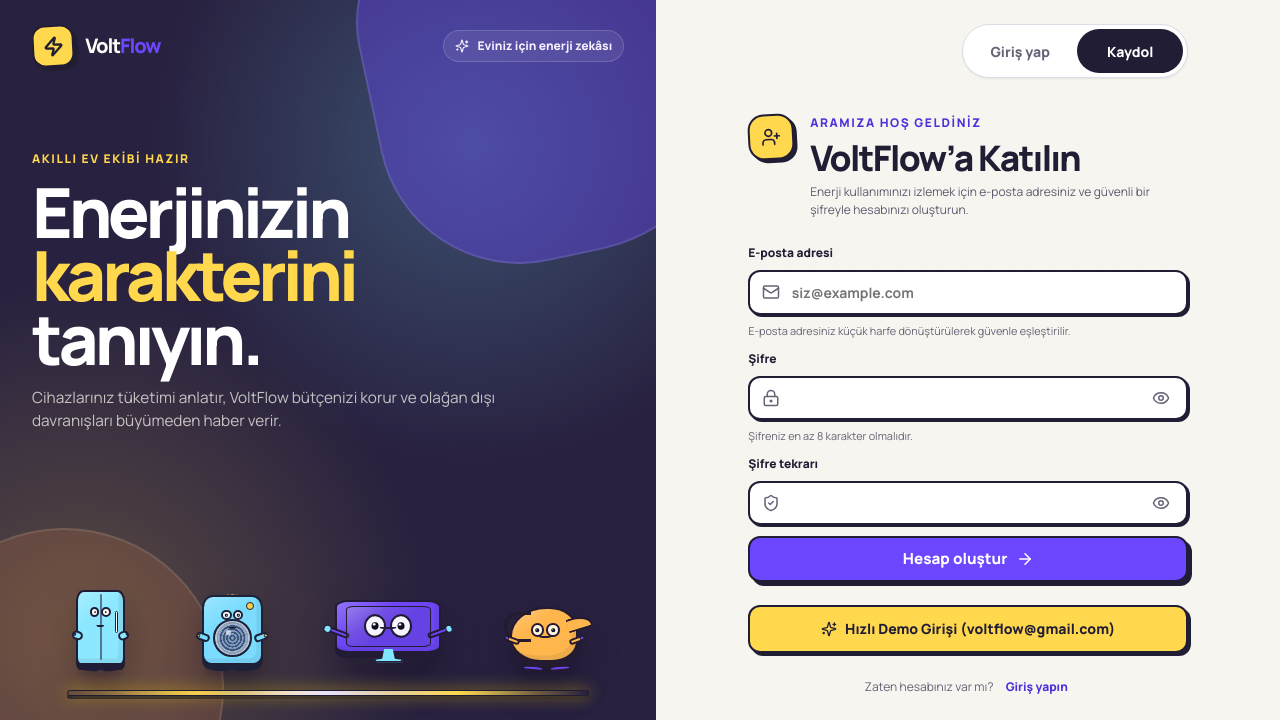
Test: LoginPage email and password authentication › renders registration fields and blocks mismatched passwords
The image size is (1280, 720).
Expected: the text "Şifreniz en az 8 karakter olmalıdır." is shown, [748,428,913,443]
Step 1. Type "owner@example.com" into the field labelled "E-posta adresi" → (968, 292), box [748,270,1188,315]
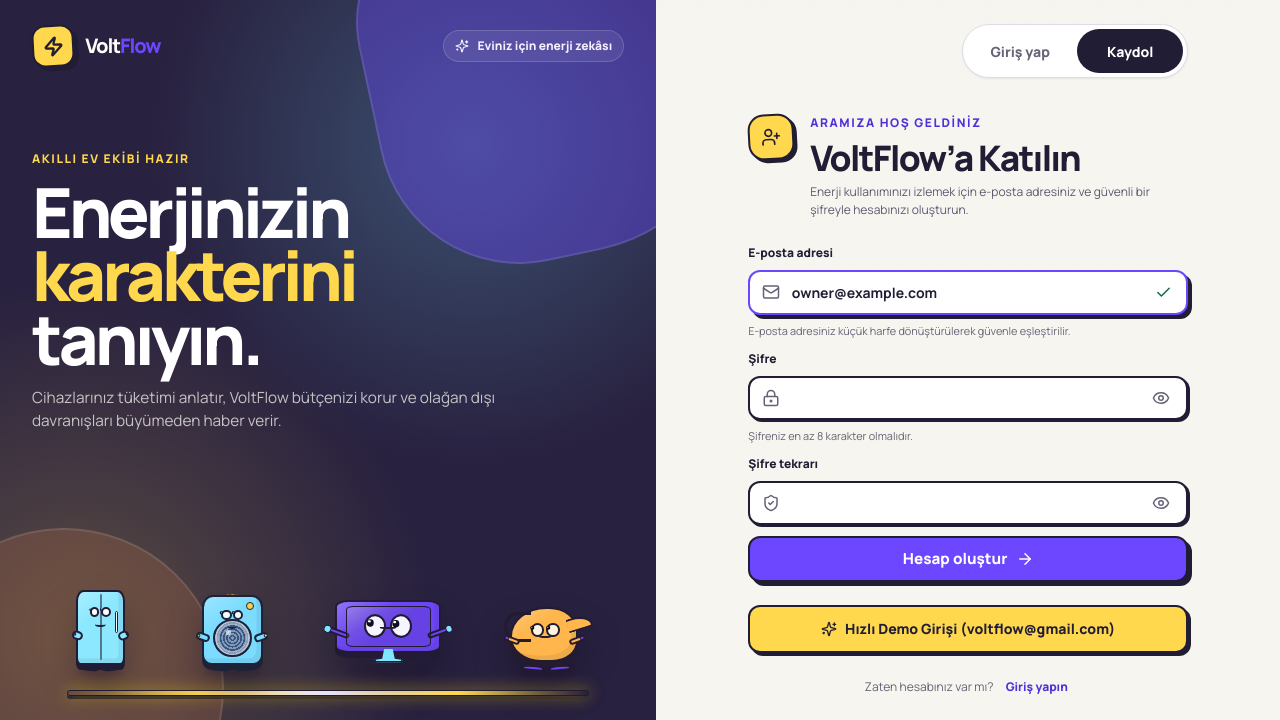
Step 2. Type "securePassword" into the password field labelled "Şifre" → (968, 398), box [748,376,1188,420]
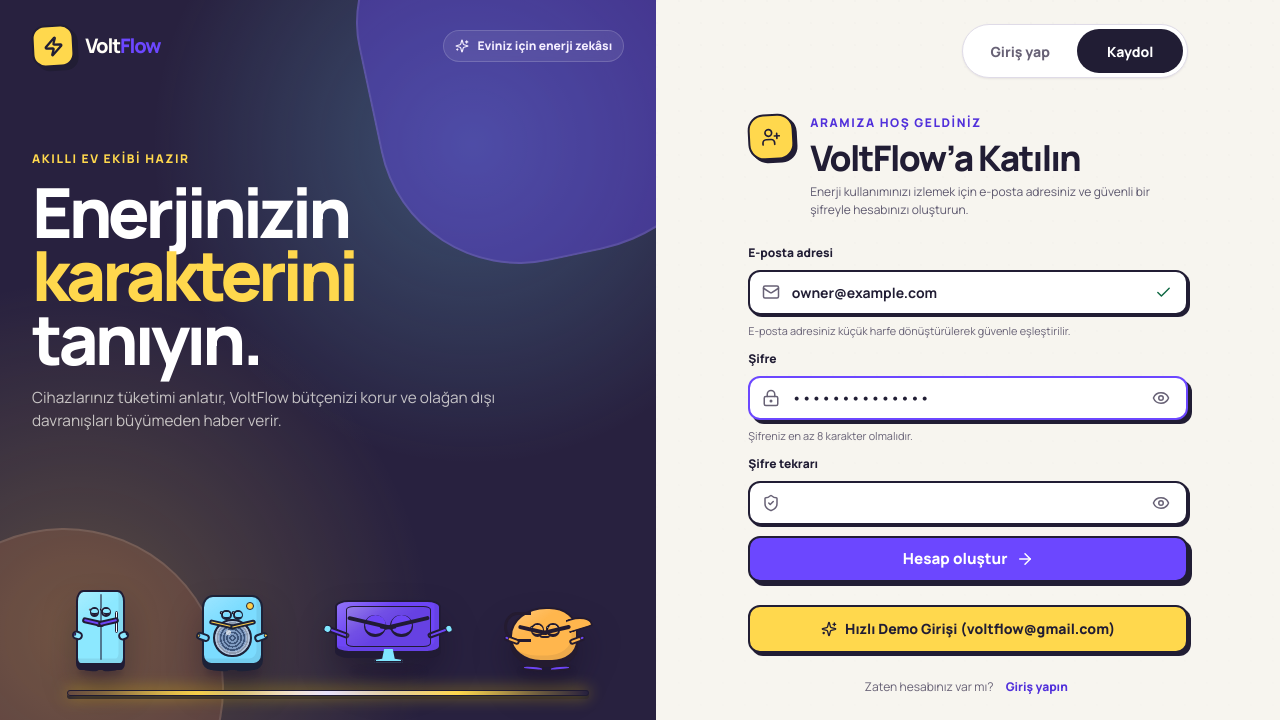
Step 3. Type "differentPassword" into the password field labelled "Şifre tekrarı" → (968, 503), box [748,481,1188,525]
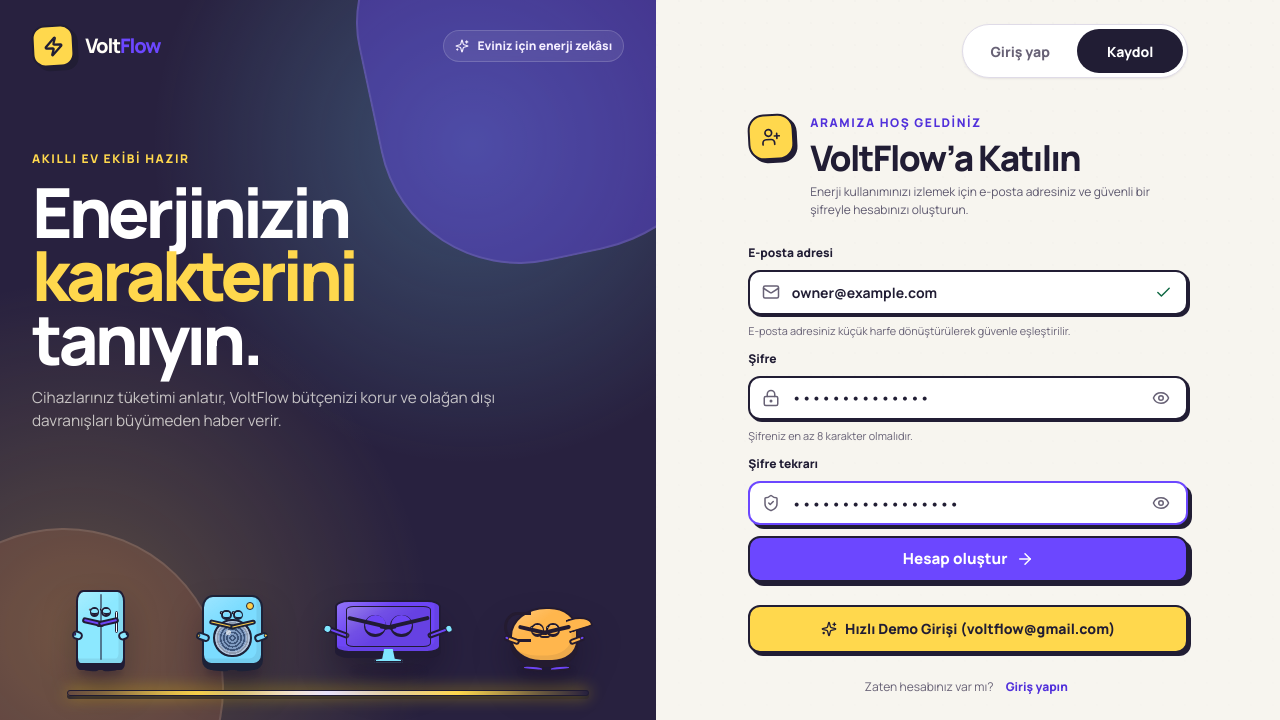
Step 4. Click the button "Hesap oluştur" → (968, 559), box [748,536,1188,582]
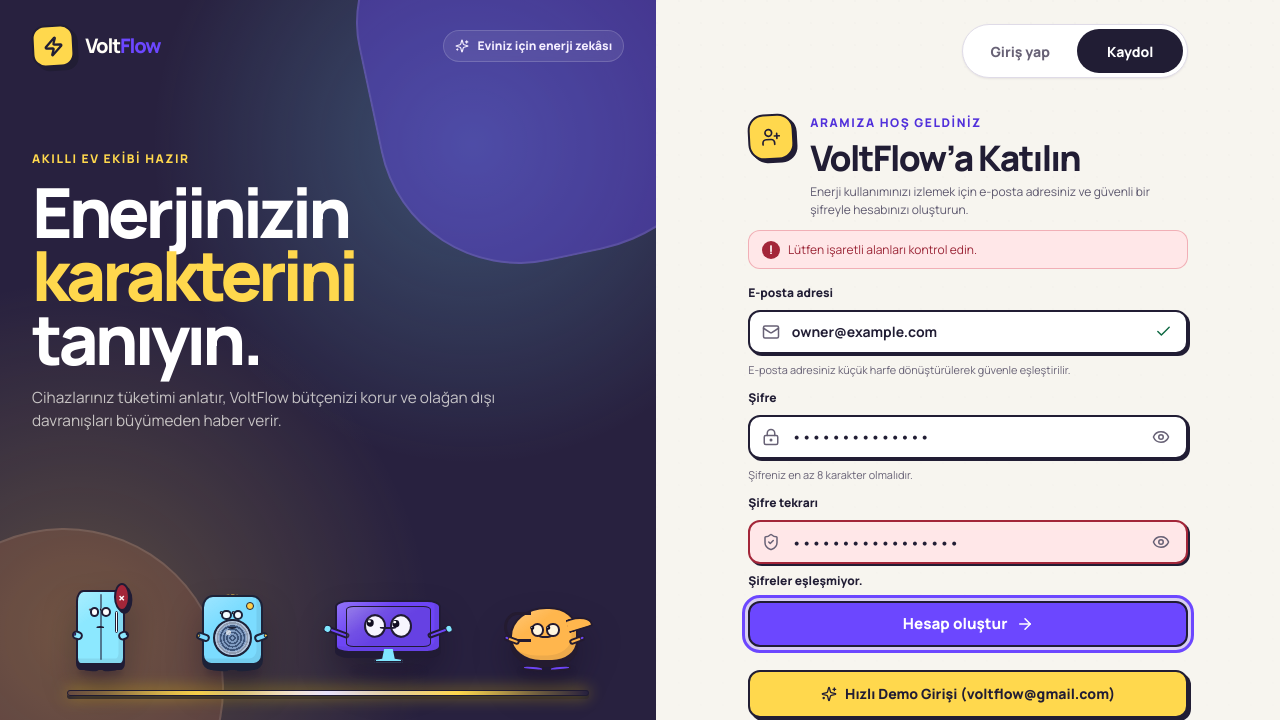
Expected: the text "Şifreler eşleşmiyor." is shown, [748,572,862,589]
